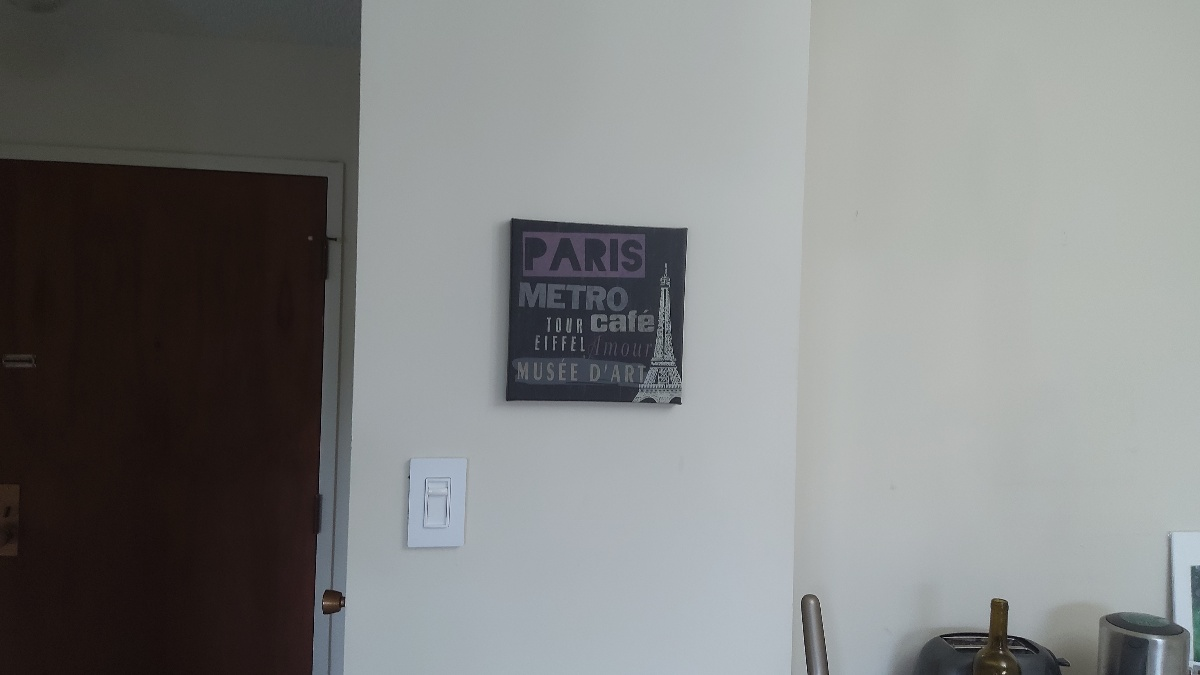poster: (499, 213, 688, 412)
